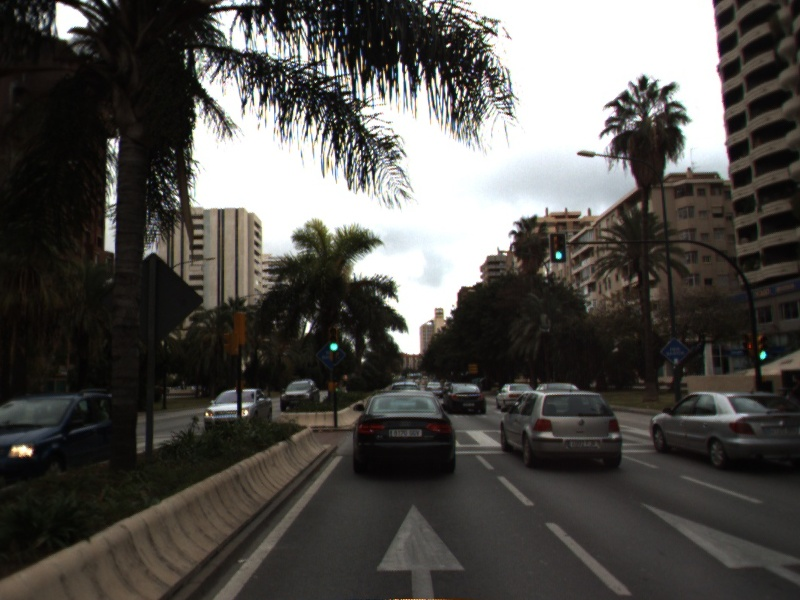STRAIGHT: (637, 499, 800, 587), (372, 500, 470, 600)
